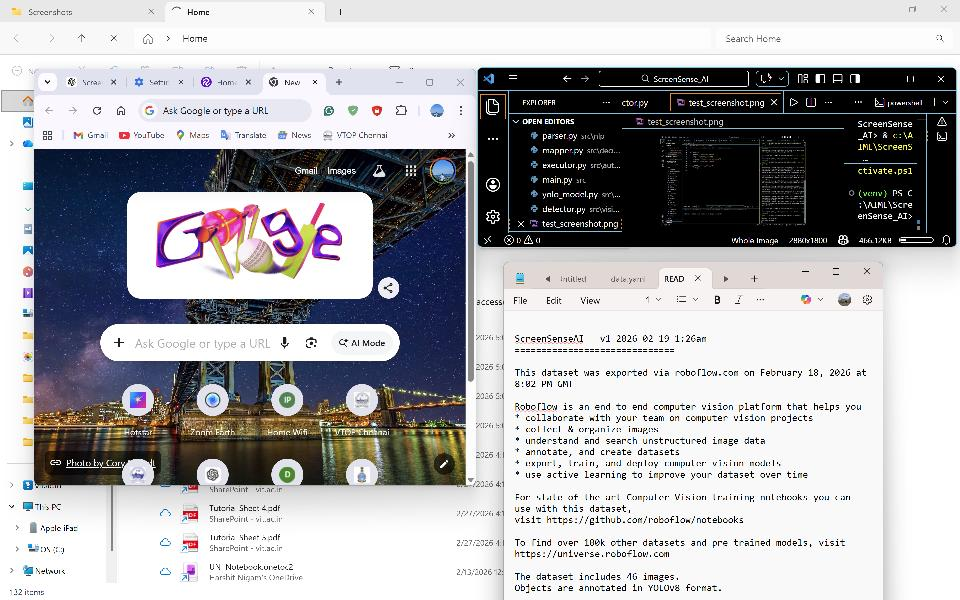close_button: (855, 265, 879, 285), (450, 73, 471, 92), (933, 2, 955, 18), (931, 71, 951, 87)
maximize_button: (902, 0, 927, 21), (826, 264, 848, 285), (420, 73, 441, 92), (899, 72, 925, 87)
minimize_button: (390, 73, 411, 93), (797, 266, 819, 285), (868, 71, 893, 87), (875, 3, 894, 19)
